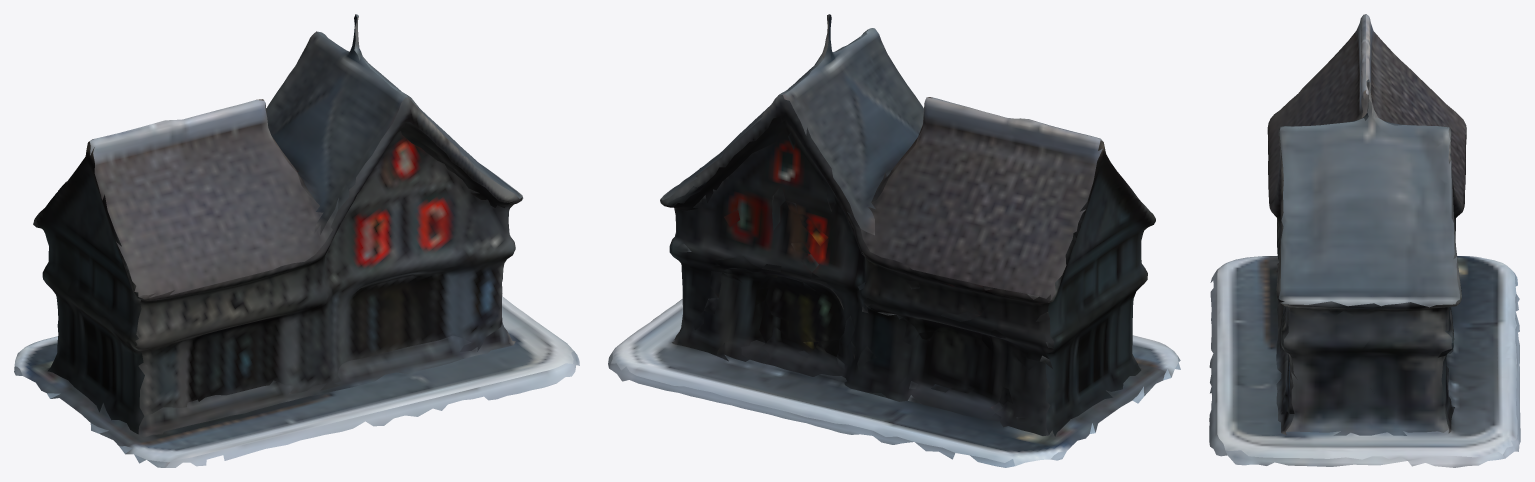
3 views of the same model, side by side, from view 1: azimuth 30°, elevation 25°; view 2: azimuth 150°, elevation 25°; view 3: azimuth 270°, elevation 25° (orthographic). The views are drawn at different scales.
Visible parts, largest first — view 1: input.005; view 2: input.005; view 3: input.005.
Boxes of the visible parts, x1,y1,x2,y2 form: input.005: (14, 14, 579, 467); input.005: (608, 14, 1180, 467); input.005: (1209, 14, 1520, 467).
Size of the model in its own units: 14.13 by 10.19 by 9.11.
